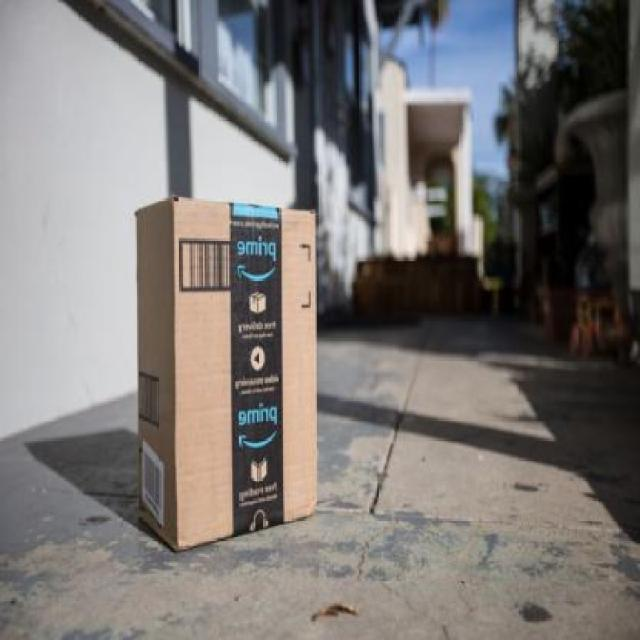cardboxes: (132, 192, 320, 559)
